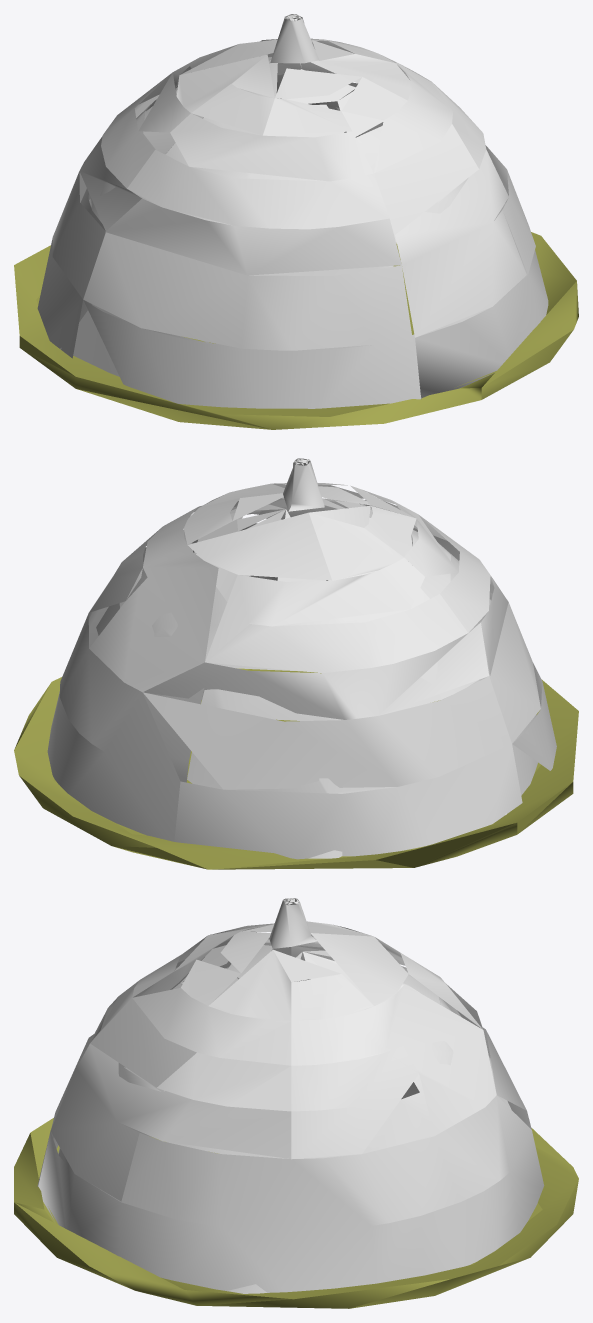
File: Glass_dome_LOD2.fbx
3 renders of one model, top to bottom at view 1: azimuth 30°, elevation 25°; view 2: azimuth 150°, elevation 25°; view 3: azimuth 270°, elevation 25°, orthographic.
Visible parts, largest first — view 1: Glass_Material_001_0; view 2: Glass_Material_001_0; view 3: Glass_Material_001_0.
Boxes of the visible parts, <box> form: Glass_Material_001_0: <box>14,14,578,429</box>; Glass_Material_001_0: <box>14,458,578,869</box>; Glass_Material_001_0: <box>14,898,578,1308</box>.
Bounding box in the file's own units: 183 × 111 × 183.
